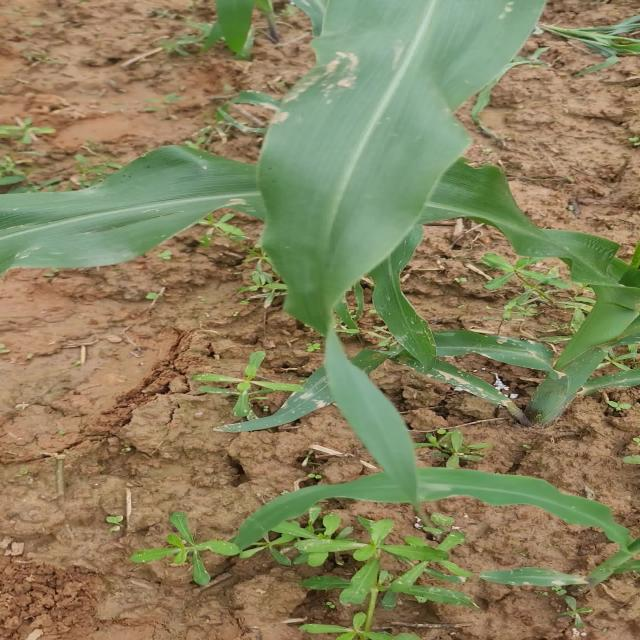maize: (41, 150, 640, 358), (317, 337, 522, 495), (347, 8, 527, 157), (195, 5, 335, 55)
weed: (184, 505, 465, 633), (208, 356, 284, 422)
